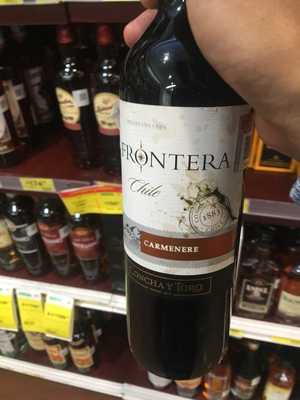frontera carmenere: (118, 16, 269, 379)
